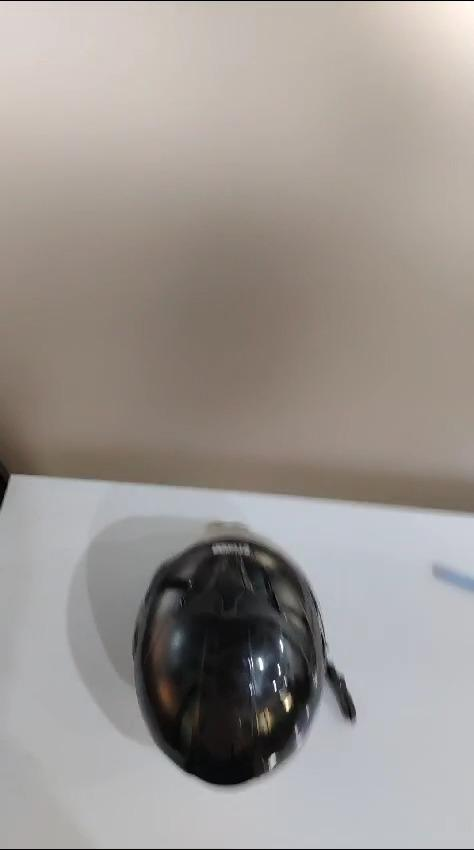Helmet: (130, 526, 329, 801)
